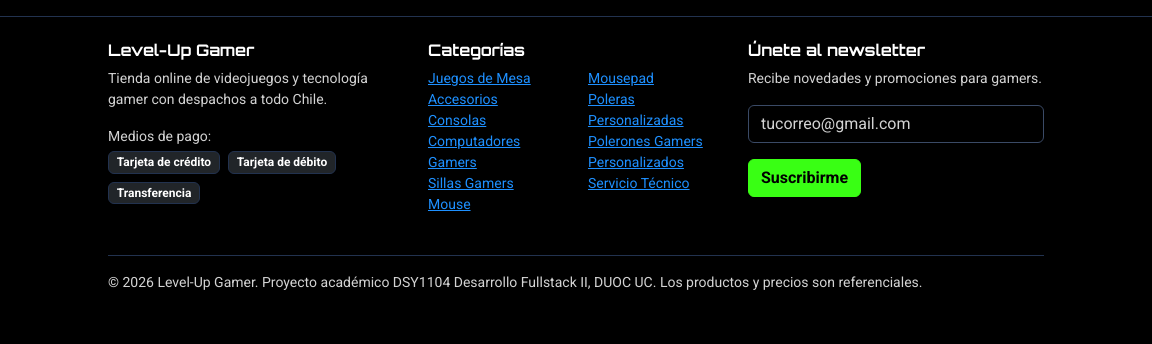
it: Footer (newsletter) › sugiere el dominio correcto ante un error de tipeo
The width and height of the screenshot is (1152, 344).
Type "ana@gmial.com" into the field named "Correo para el newsletter".
click(896, 124); type("ana@gmial.com")  # box 748,105 -> 1044,143
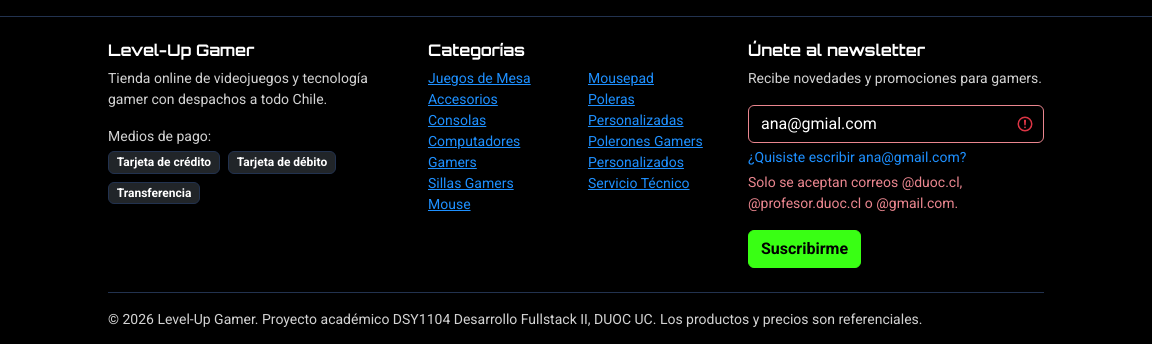
Result: the text "¿Quisiste escribir ana@gmail.com?" is shown at 748,149 -> 966,165
